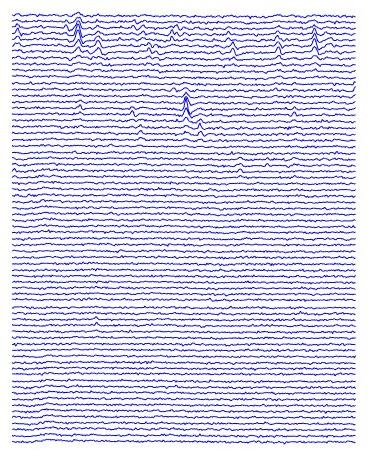defect: (280, 99, 305, 137), (222, 29, 245, 68), (90, 14, 107, 58), (307, 24, 324, 62), (71, 13, 84, 57), (131, 105, 147, 140), (10, 12, 24, 48), (274, 27, 285, 64), (234, 152, 246, 185), (179, 87, 189, 121), (129, 17, 146, 37), (168, 23, 182, 44), (145, 37, 157, 61), (195, 118, 206, 141), (74, 98, 83, 123)
